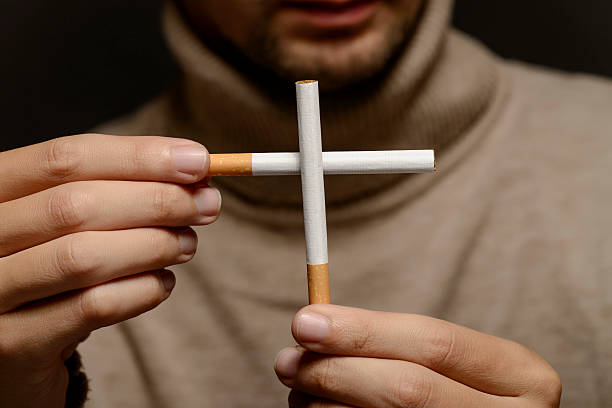cigarette: (294, 78, 330, 306), (208, 150, 435, 177)
